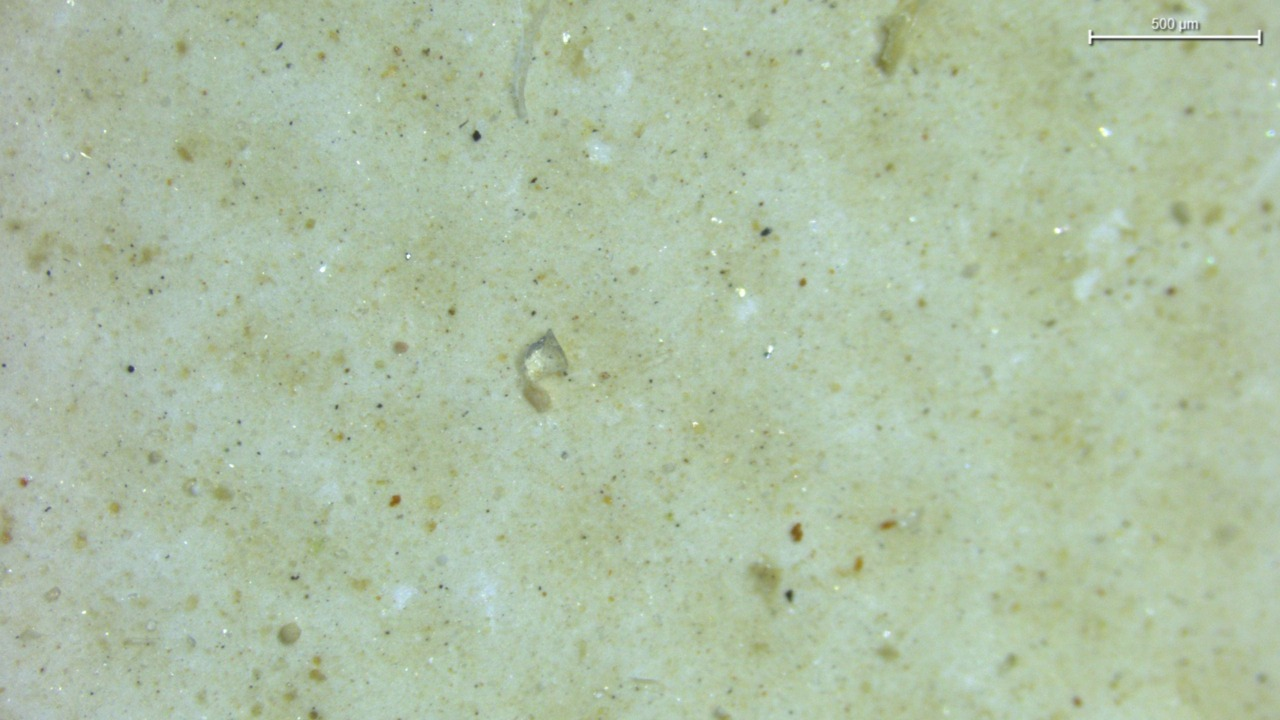microplastic_fragment: (524, 330, 567, 381)
